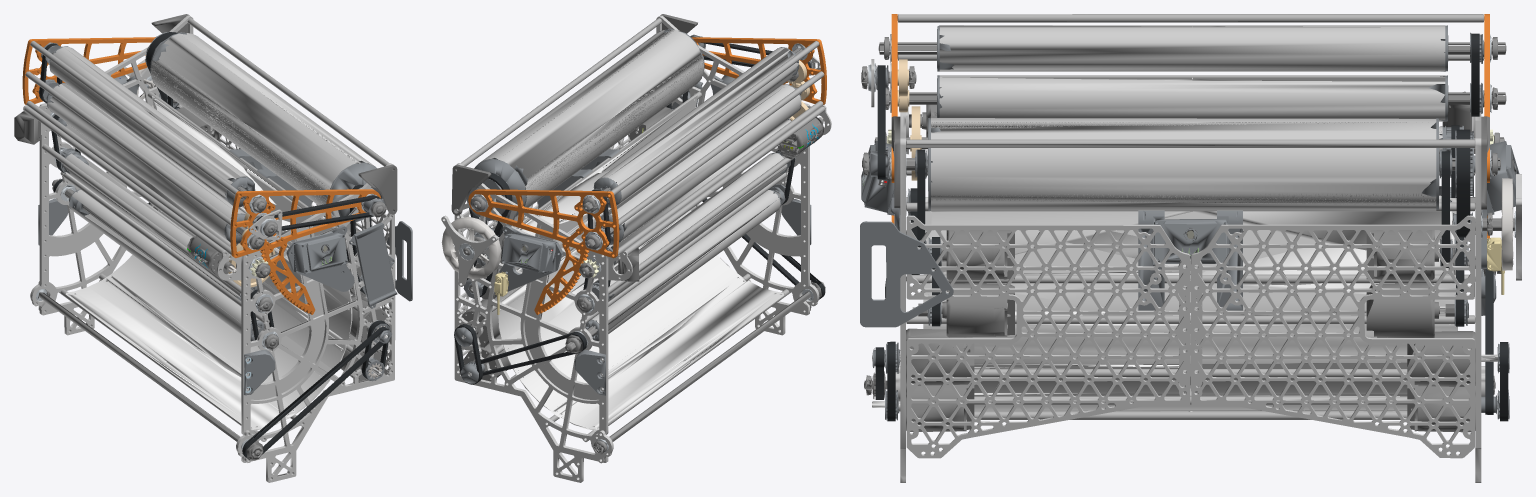
The model's file is shooter-581-donor.glb.
The picture shows the model from 3 angles, left to right: view 1: azimuth 30°, elevation 25°; view 2: azimuth 150°, elevation 25°; view 3: azimuth 270°, elevation 25°; orthographic projection. The views are drawn at different scales.
Visible parts, largest first — view 1: frame, hood, flywheel; view 2: frame, hood, flywheel; view 3: frame, hood, flywheel.
Boxes of the visible parts, x1,y1,x2,y2 form: frame: [14, 14, 412, 482]; hood: [22, 37, 381, 314]; flywheel: [145, 32, 386, 223]; frame: [441, 14, 831, 482]; hood: [468, 36, 826, 314]; flywheel: [466, 28, 705, 220]; frame: [860, 14, 1521, 482]; hood: [861, 14, 1506, 238]; flywheel: [862, 118, 1500, 210].
Size of the model in its own units: 0.3348 by 0.5164 by 0.7234.
